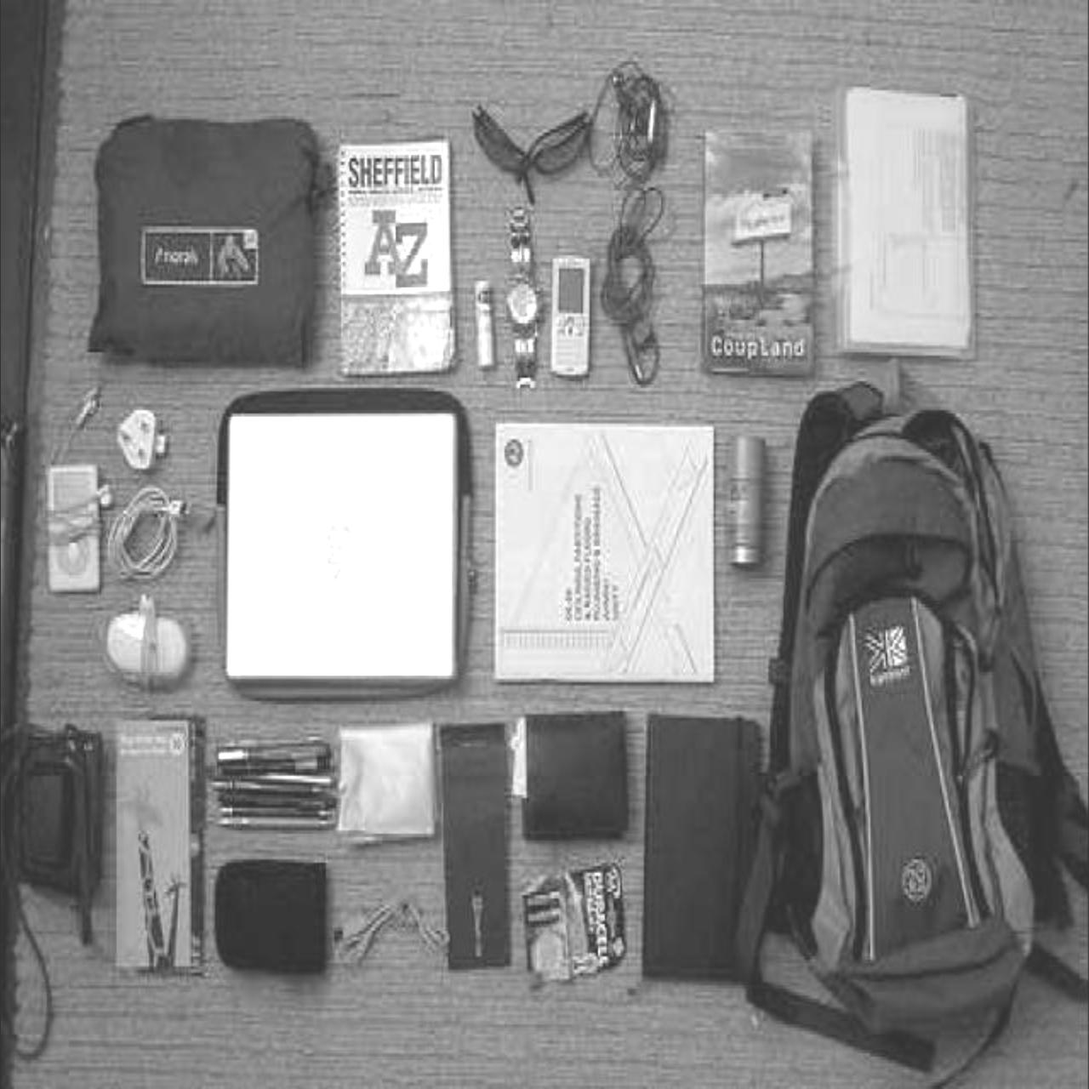laptop: (225, 415, 463, 691)
